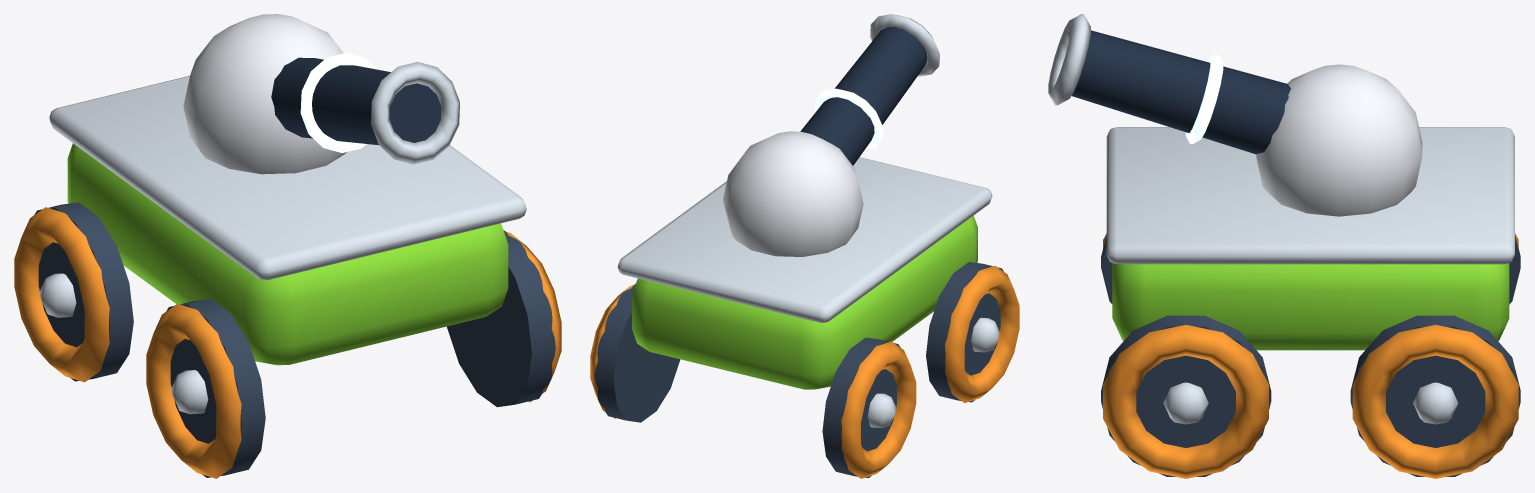
File: CannonCart.fbx
3 views of the same model, side by side, from view 1: azimuth 30°, elevation 25°; view 2: azimuth 150°, elevation 25°; view 3: azimuth 270°, elevation 25° (orthographic). The views are drawn at different scales.
Parts seen in each view (by area): view 1: Body; view 2: Body; view 3: Body.
Boxes of the visible parts, box(x1,y1,x2,y2) form: Body: box(14, 14, 561, 478); Body: box(590, 14, 1019, 478); Body: box(1048, 14, 1520, 478).
Size of the model in its own units: 0.6956 by 0.7542 by 0.8331.
